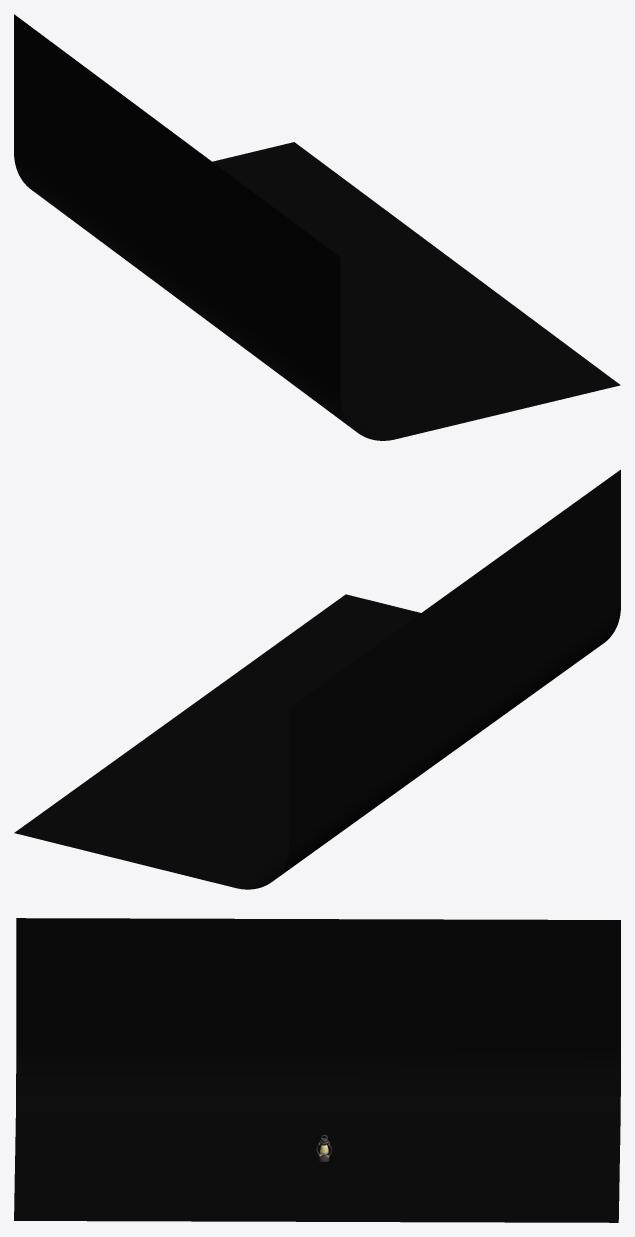
The model's file is GasLantern 1.fbx.
3 renders of one model, top to bottom at view 1: azimuth 30°, elevation 25°; view 2: azimuth 150°, elevation 25°; view 3: azimuth 270°, elevation 25°, orthographic. The views are drawn at different scales.
Parts seen in each view (by area): view 1: Plane; view 2: Plane; view 3: Plane.
Boxes of the visible parts, left/top/right/bottom form: Plane: left=14, top=14, right=620, bottom=440; Plane: left=14, top=469, right=620, bottom=889; Plane: left=14, top=918, right=620, bottom=1222.
Size of the model in its own units: 912 by 600 by 1851.
